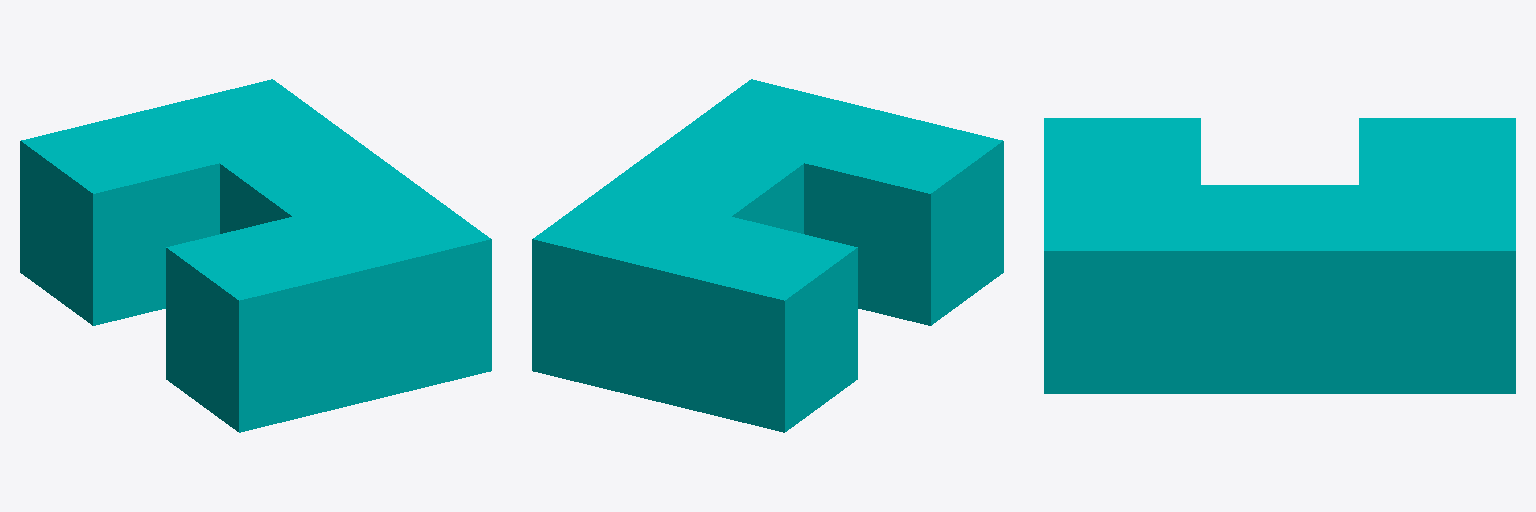
URDF robot description (slot_target):
<?xml version="1.0" ?>

<robot name="slot_target">
    <material name="slot_target">
        <color rgba="0 0.8 0.8 0.5"/>
    </material>
    <material name="slot_fit_target">
        <color rgba="0 0.8 0.8 0.0"/>
    </material>
    <link name="base">
        <inertial>
            <origin rpy="0 0 0" xyz="0 0 0"/>
            <mass value="0"/>
            <inertia ixx="0.1" ixy="0" ixz="0" iyy="0.1" iyz="0" izz="0.1"/>
        </inertial>
        <visual>
            <origin rpy="0 0 0" xyz="0 0 0"/>
            <geometry>
                <box size="0.03 0.09 0.03"/>
            </geometry>
            <material name="slot_target"/>
        </visual>
    </link>
    <joint name="base_left_joint" type="fixed">
        <origin rpy="0 0 0" xyz="-0.03 0.03 0"/>
        <parent link="base"/>
        <child link="left"/>
    </joint>
    <link name="left">
        <inertial>
            <origin rpy="0 0 0" xyz="0 0 0"/>
            <mass value="0"/>
            <inertia ixx="0.1" ixy="0" ixz="0" iyy="0.1" iyz="0" izz="0.1"/>
        </inertial>
        <visual>
            <origin rpy="0 0 0" xyz="0 0 0"/>
            <geometry>
                <box size="0.03 0.03 0.03"/>
            </geometry>
            <material name="slot_target"/>
        </visual>
    </link>
    <joint name="base_right_joint" type="fixed">
        <origin rpy="0 0 0" xyz="-0.03 -0.03 0"/>
        <parent link="base"/>
        <child link="right"/>
    </joint>
    <link name="right">
        <inertial>
            <origin rpy="0 0 0" xyz="0 0 0"/>
            <mass value="0"/>
            <inertia ixx="0.1" ixy="0" ixz="0" iyy="0.1" iyz="0" izz="0.1"/>
        </inertial>
        <visual>
            <origin rpy="0 0 0" xyz="0 0 0"/>
            <geometry>
                <box size="0.03 0.03 0.03"/>
            </geometry>
            <material name="slot_target"/>
        </visual>
    </link>
    <joint name="base_target_joint" type="fixed">
        <origin rpy="0 0 0" xyz="-0.03 0 0"/>
        <parent link="base"/>
        <child link="slot_target"/>
    </joint>
    <link name="slot_target">
        <inertial>
            <origin rpy="0 0 0" xyz="0 0 0"/>
            <mass value="0"/>
            <inertia ixx="0.1" ixy="0" ixz="0" iyy="0.1" iyz="0" izz="0.1"/>
        </inertial>
        <visual>
            <origin rpy="0 0 0" xyz="0 0 0"/>
            <geometry>
                <sphere radius="0.0001"/>
            </geometry>
            <material name="slot_fit_target"/>
        </visual>
    </link>
</robot>

--- Render facts (derived) ---
Views: 3 orthographic renders of the robot side by side, from view 1: azimuth 30°, elevation 25°; view 2: azimuth 150°, elevation 25°; view 3: azimuth 270°, elevation 25°.
Robot: slot_target — 4 links, 3 joints (3 fixed); root link base; default pose: all joints at 0.
Visible links, largest first — view 1: base, right, left; view 2: base, left, right; view 3: base, left, right.
Link boxes in pixels (x1,y1,x2,y2): base: (147, 79, 491, 401); right: (166, 217, 364, 432); left: (20, 110, 219, 325); base: (532, 79, 876, 401); left: (659, 217, 857, 432); right: (804, 110, 1003, 325); base: (1044, 185, 1515, 393); left: (1359, 118, 1515, 184); right: (1044, 118, 1200, 184).
Bounding box of the posed robot: 0.06 × 0.09 × 0.03 m (x, y, z).
Geometry: primitives only (box / cylinder / sphere), no mesh files.